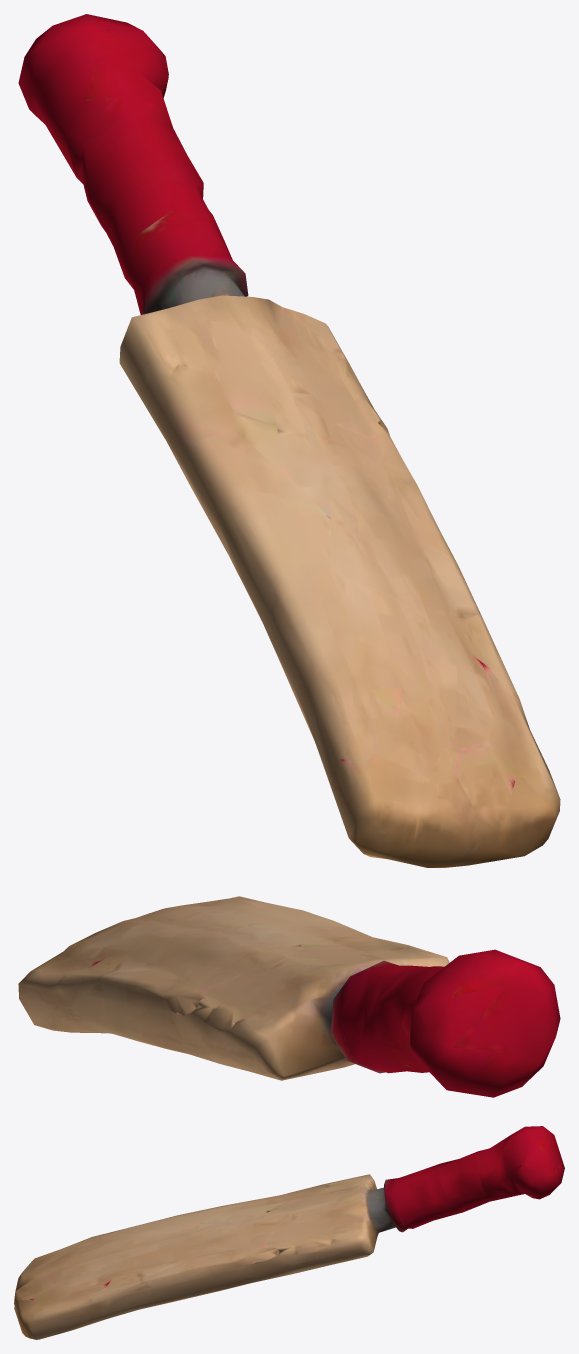
Rendered from bat.glb.
3 renders of one model, top to bottom at view 1: azimuth 30°, elevation 25°; view 2: azimuth 210°, elevation 25°; view 3: azimuth 270°, elevation 25°, orthographic. The views are drawn at different scales.
Visible parts, largest first — view 1: tripo_node_e7026ac9-3f7c-4d0a-95bd-480d199aac4c; view 2: tripo_node_e7026ac9-3f7c-4d0a-95bd-480d199aac4c; view 3: tripo_node_e7026ac9-3f7c-4d0a-95bd-480d199aac4c.
Boxes of the visible parts, x1,y1,x2,y2 form: tripo_node_e7026ac9-3f7c-4d0a-95bd-480d199aac4c: (18,14,560,867); tripo_node_e7026ac9-3f7c-4d0a-95bd-480d199aac4c: (18,896,560,1097); tripo_node_e7026ac9-3f7c-4d0a-95bd-480d199aac4c: (14,1126,564,1339).
Size of the model in its own units: 0.3147 by 0.4447 by 0.9816.
Materials: 1 (1 with a texture image).
